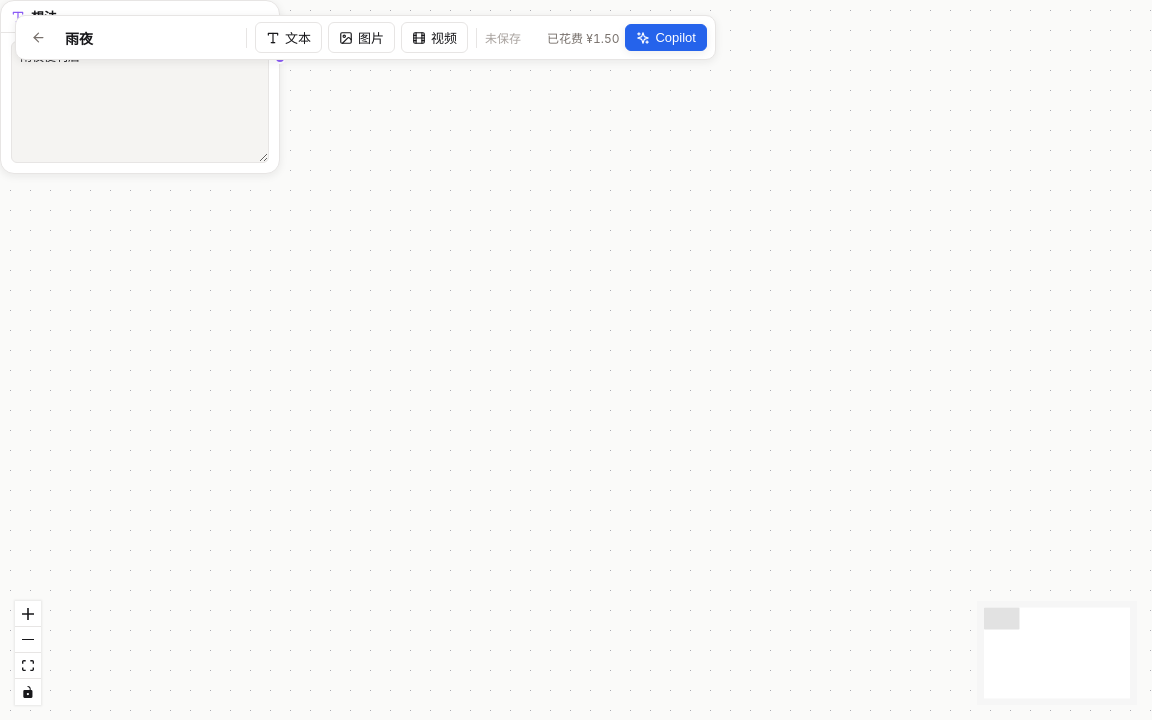
Test: NodeCanvasPage › adds an image node, saves, then runs it with the merged prompt
Expected: the text box showing "雨夜便利店" is shown, [11, 41, 269, 163]
Click the button "图片": (362, 38) [328, 22, 395, 53]
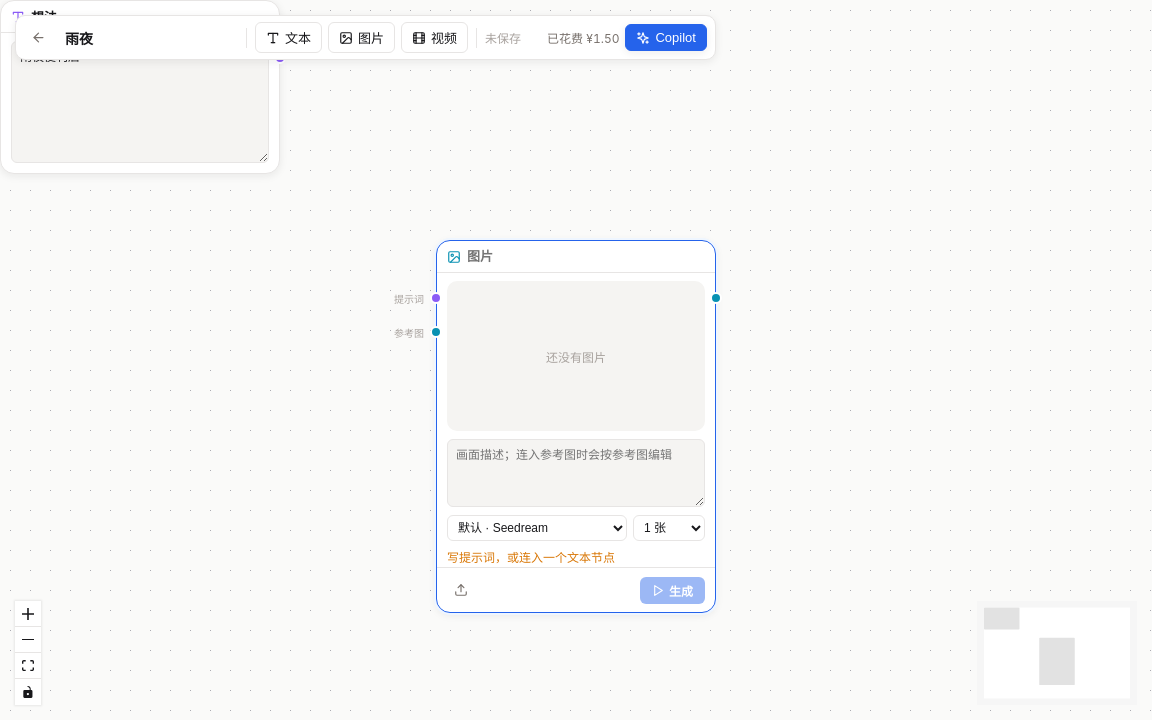
In the text box named "提示词": (576, 473) [447, 439, 705, 507], type "女店员"
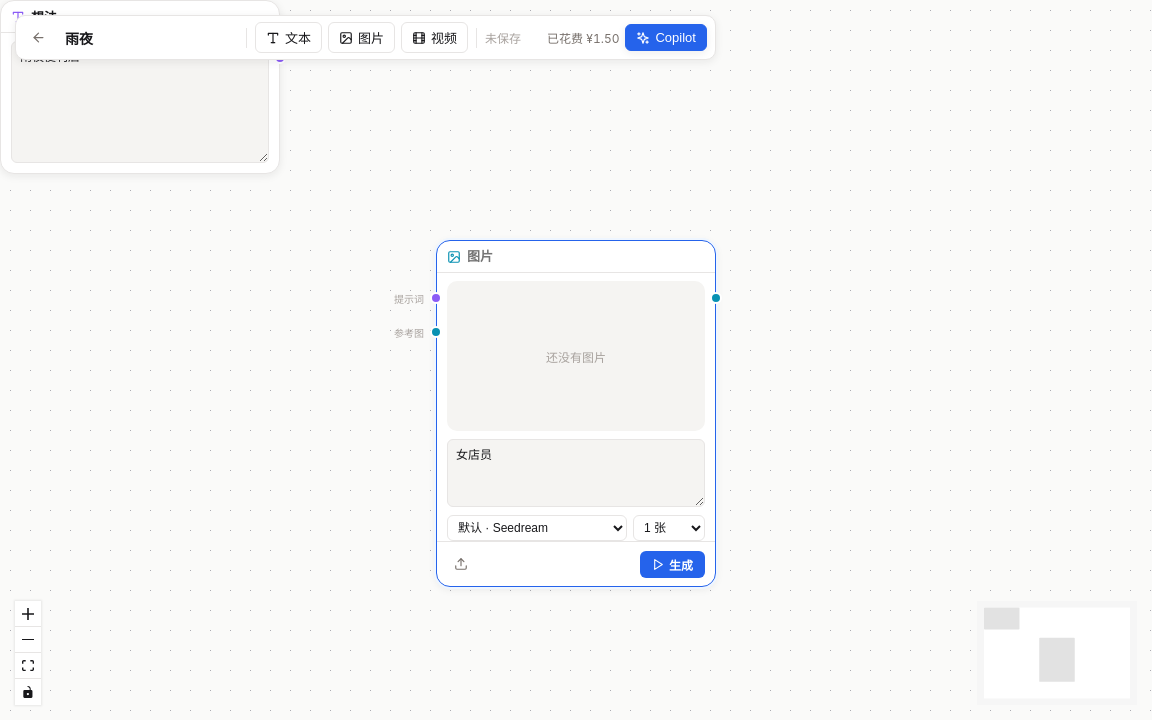
Expected: the button "生成" is enabled
Click the button "生成": (672, 564) [640, 550, 705, 578]
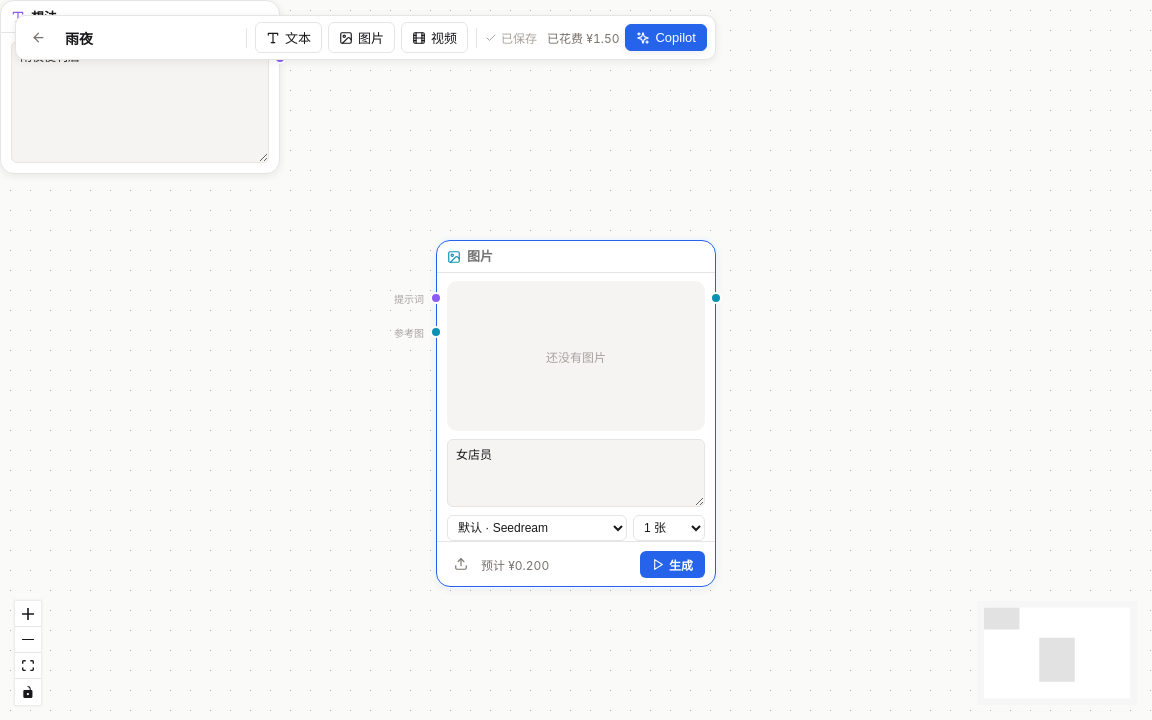
Expected: the text "预计 ¥0.200" is shown, [481, 558, 549, 572]
